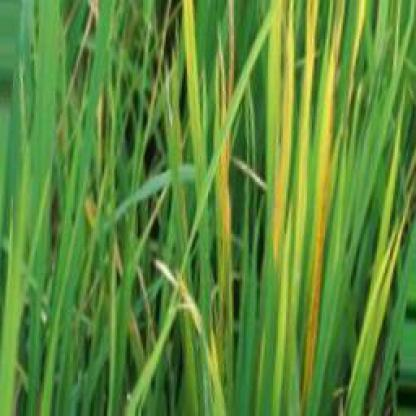Tungro: (300, 3, 346, 411), (266, 3, 304, 408), (211, 3, 244, 325), (369, 185, 411, 398), (178, 3, 206, 205)
